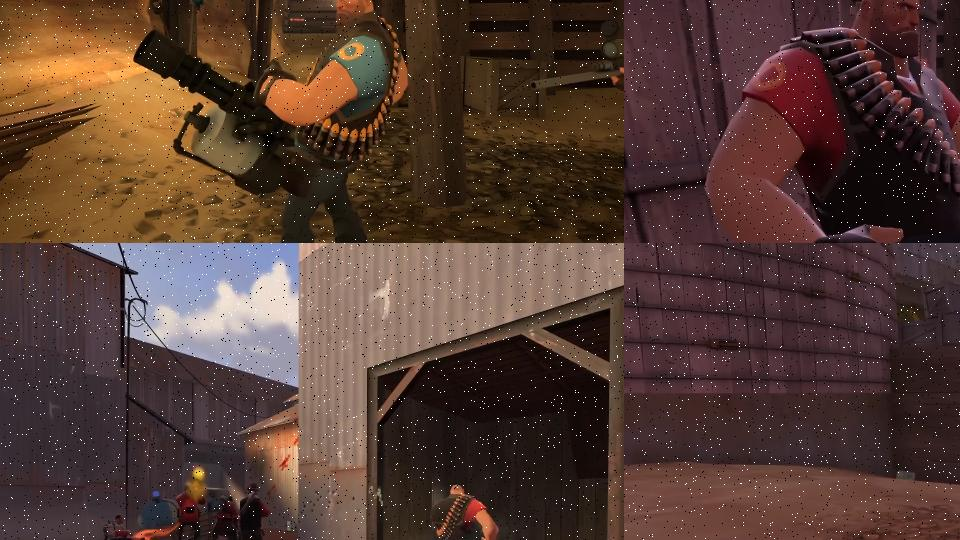Enemy: (132, 0, 410, 243), (700, 0, 960, 243), (528, 0, 624, 243), (429, 482, 520, 540), (236, 481, 271, 540), (174, 482, 207, 540), (209, 493, 238, 540), (100, 513, 145, 540)
